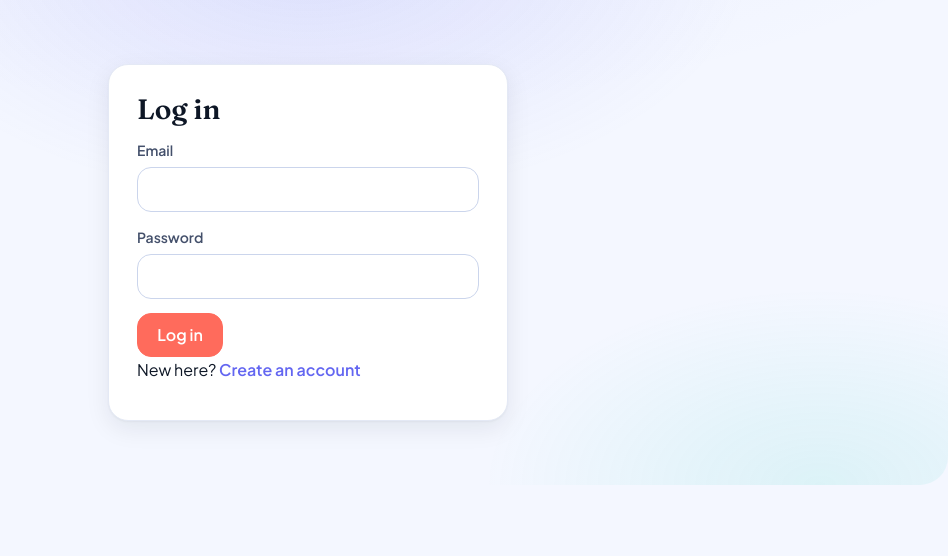
AuthForm (login) › shows the server error on bad credentials
The width and height of the screenshot is (948, 556).
In the field labelled "Email": (308, 190) x1=137 y1=167 x2=479 y2=212, type "sam@example.com"
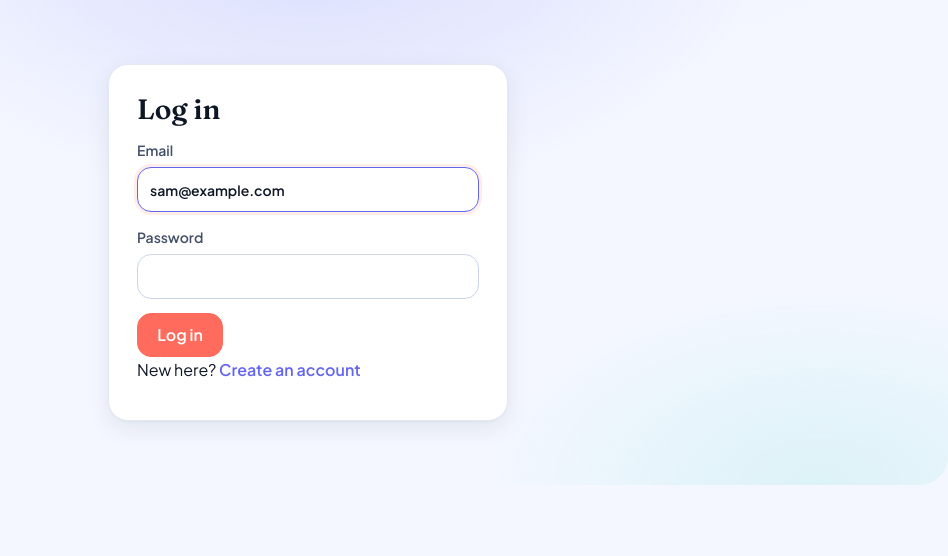
In the password field labelled "Password": (308, 276) x1=137 y1=254 x2=479 y2=299, type "wrong"
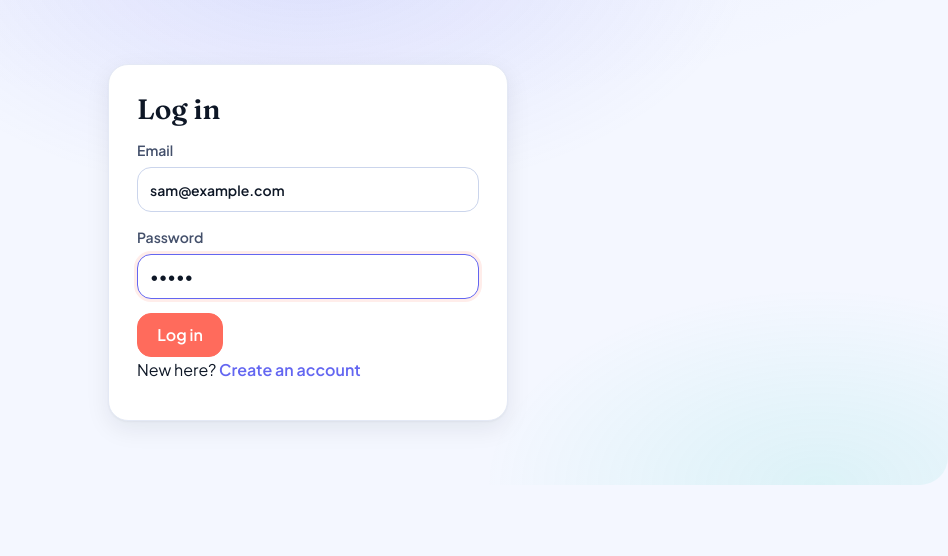
Click the button "Log in": (180, 335) x1=137 y1=313 x2=223 y2=357
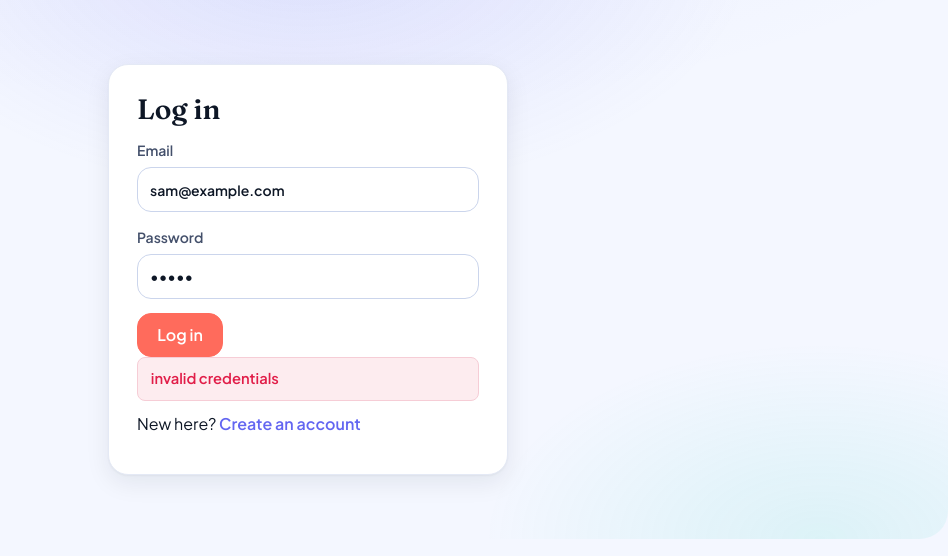
Now the message reads "invalid credentials", box x1=151 y1=369 x2=279 y2=387
